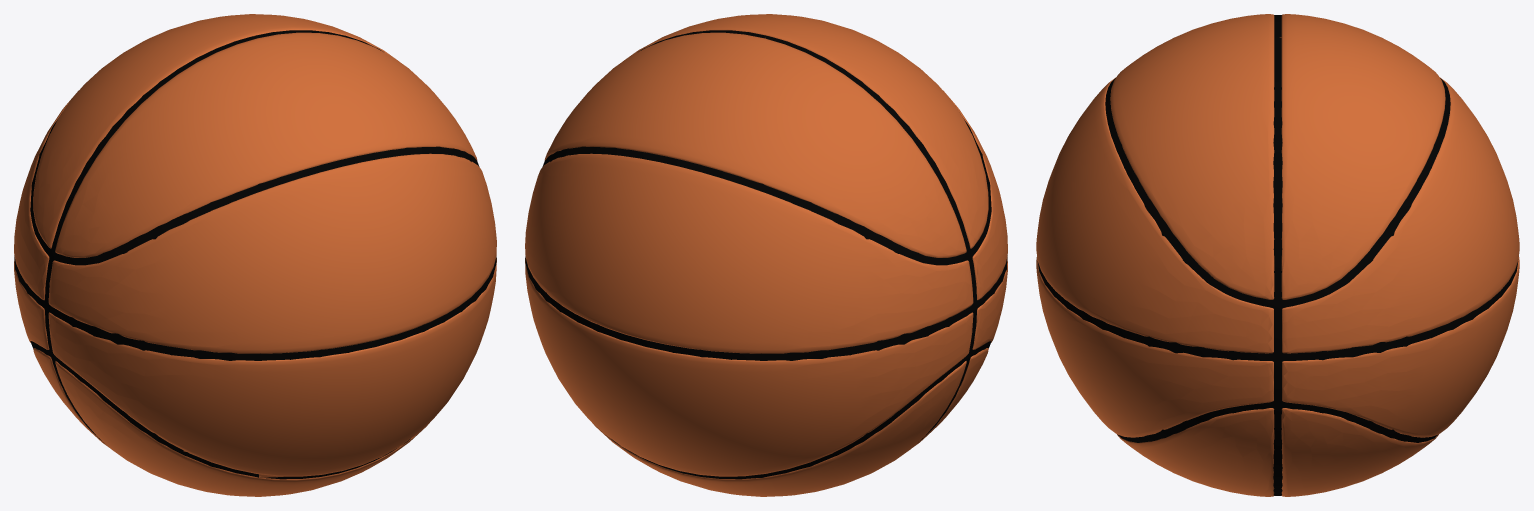
Rendered from Basketball.glb.
3 views of the same model, side by side, from view 1: azimuth 30°, elevation 25°; view 2: azimuth 150°, elevation 25°; view 3: azimuth 270°, elevation 25° (orthographic).
Parts seen in each view (by area): view 1: bbc_ball_body, Sphere; view 2: bbc_ball_body, Sphere; view 3: bbc_ball_body, Sphere.
Boxes of the visible parts, box(x1,y1,x2,y2) form: bbc_ball_body: box(14, 14, 496, 496); Sphere: box(14, 30, 496, 479); bbc_ball_body: box(525, 14, 1007, 496); Sphere: box(525, 30, 1007, 479); bbc_ball_body: box(1036, 14, 1519, 496); Sphere: box(1037, 15, 1518, 495).
Size of the model in its own units: 1 by 1 by 1.
